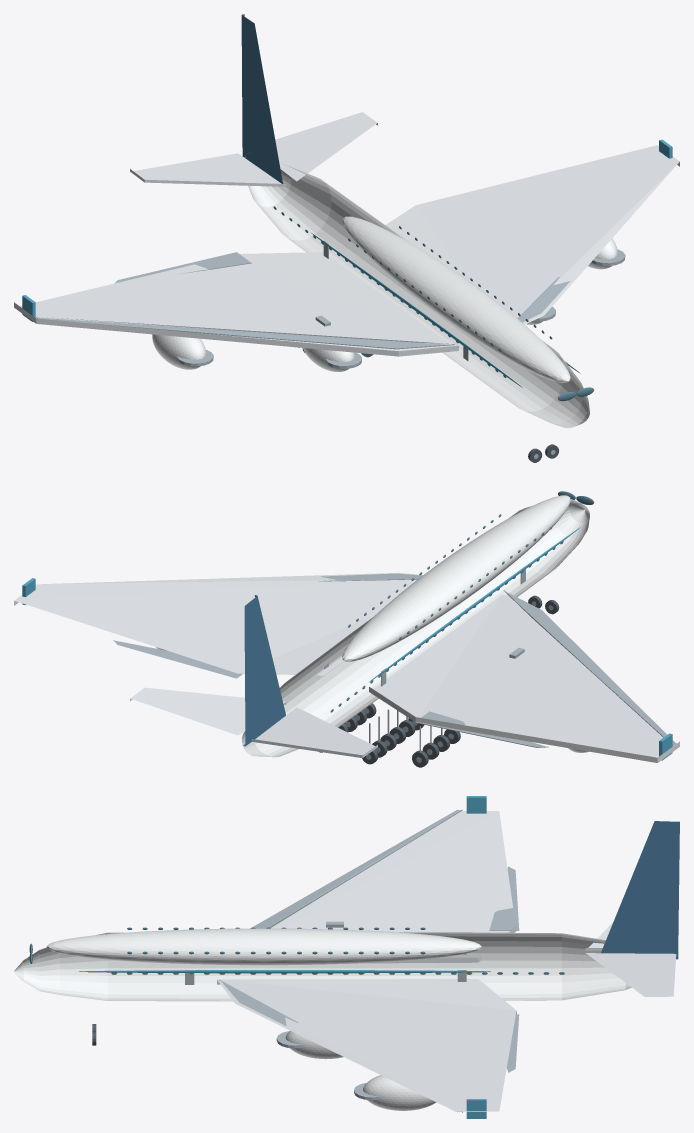
Rendered from a380-aerolab.glb.
3 renders of one model, top to bottom at view 1: azimuth 30°, elevation 25°; view 2: azimuth 150°, elevation 25°; view 3: azimuth 270°, elevation 25°, orthographic. The views are drawn at different scales.
Parts seen in each view (by area): view 1: wing, fuselage, metal, tail, accent, window; view 2: wing, fuselage, metal, tail, tire, accent, window; view 3: wing, fuselage, tail, metal, accent, window.
Boxes of the visible parts, box(x1,y1,x2,y2) form: wing: box(14, 112, 679, 356); fuselage: box(152, 156, 617, 428); metal: box(36, 241, 625, 458); tail: box(241, 14, 283, 183); accent: box(22, 139, 672, 387); window: box(273, 206, 593, 401); wing: box(14, 572, 679, 762); fuselage: box(156, 495, 589, 757); metal: box(113, 567, 676, 762); tail: box(243, 595, 285, 746); tire: box(319, 595, 559, 767); accent: box(22, 527, 672, 760); window: box(330, 491, 594, 712); wing: box(217, 811, 676, 1111); fuselage: box(14, 928, 631, 1110); tail: box(601, 821, 679, 959); metal: box(185, 809, 519, 1112); accent: box(79, 796, 490, 1118); window: box(29, 927, 564, 974).
Bounding box in the file's own units: 79.74 × 26.94 × 73.35.
